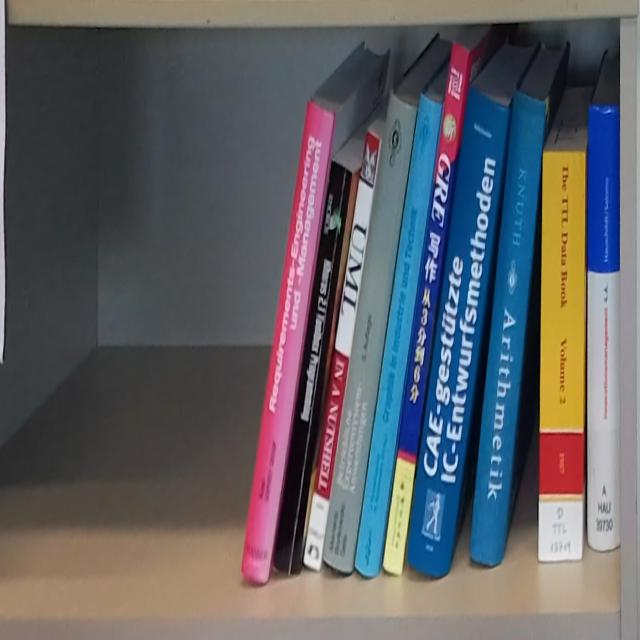Book Spine: (407, 87, 510, 577), (383, 41, 472, 578), (322, 90, 419, 573), (243, 103, 337, 581), (356, 90, 444, 578), (471, 88, 547, 568), (270, 158, 355, 574), (303, 128, 381, 568), (539, 153, 586, 564), (589, 103, 621, 553)
